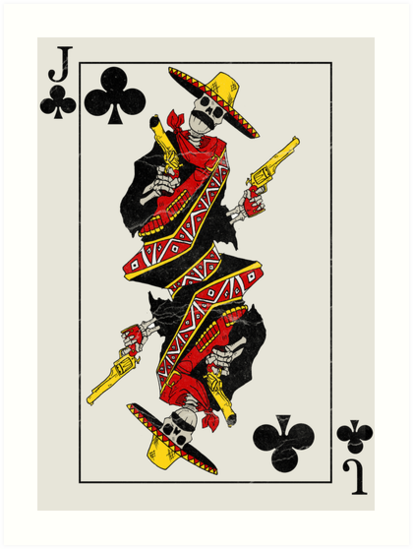jack of clubs: (37, 34, 374, 509)
